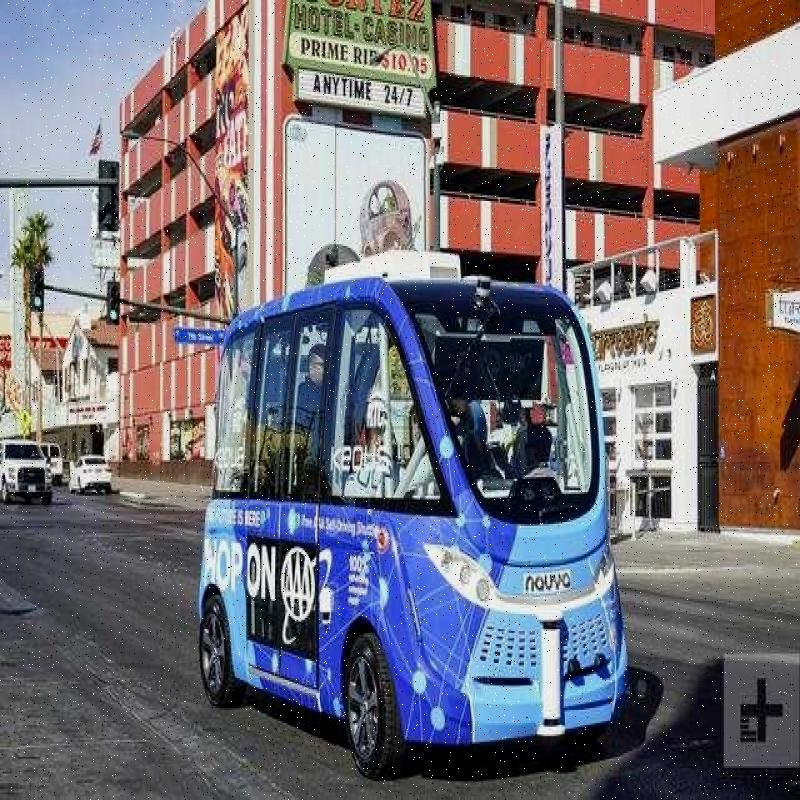bus: (182, 229, 672, 800)
